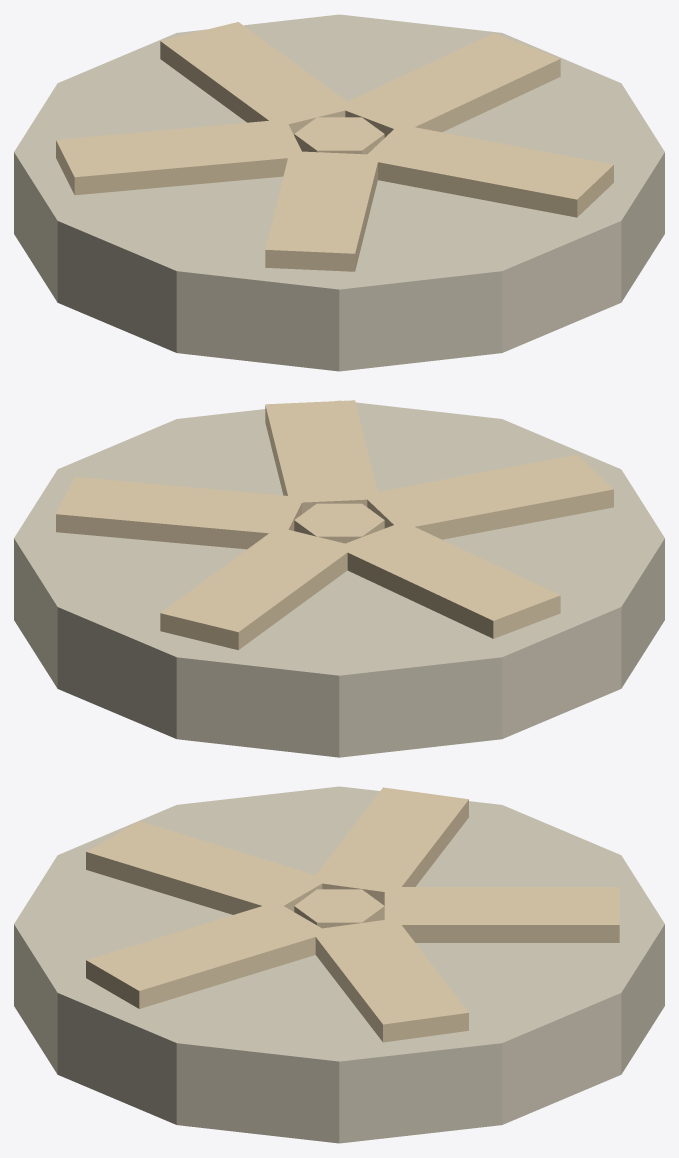
The model's file is SandDollar.fbx.
3 views of the same model, one above another, from view 1: azimuth 30°, elevation 25°; view 2: azimuth 150°, elevation 25°; view 3: azimuth 270°, elevation 25° (orthographic).
Visible parts, largest first — view 1: Body; view 2: Body; view 3: Body.
Part boxes in pixels (bbox=[...]): Body: bbox=[14, 14, 664, 371]; Body: bbox=[14, 400, 664, 757]; Body: bbox=[14, 786, 664, 1143].
Bounding box in the file's own units: 0.36 × 0.061 × 0.36.
